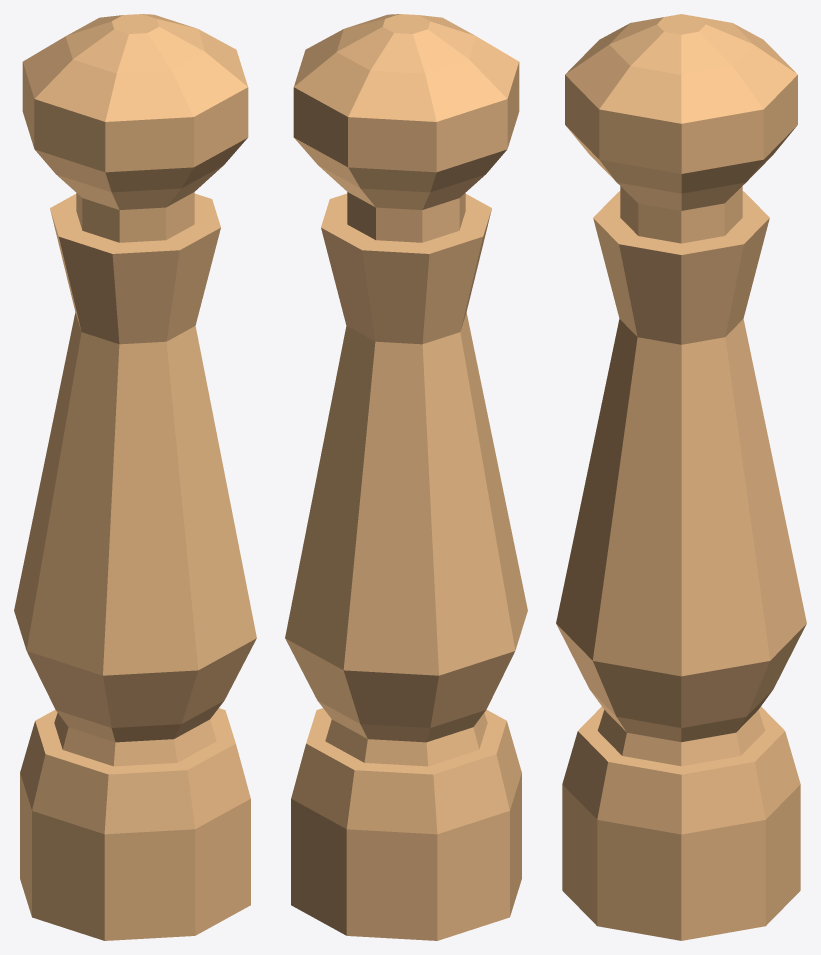
File: pepperMill.obj
3 views of the same model, side by side, from view 1: azimuth 30°, elevation 25°; view 2: azimuth 150°, elevation 25°; view 3: azimuth 270°, elevation 25° (orthographic).
Visible parts, largest first — view 1: pepperMill; view 2: pepperMill; view 3: pepperMill.
Part boxes in pixels (x1,y1,x2,y2): pepperMill: [14, 14, 256, 940]; pepperMill: [285, 14, 527, 940]; pepperMill: [556, 14, 806, 940].
Size of the model in its own units: 0.141 by 0.5372 by 0.141.
